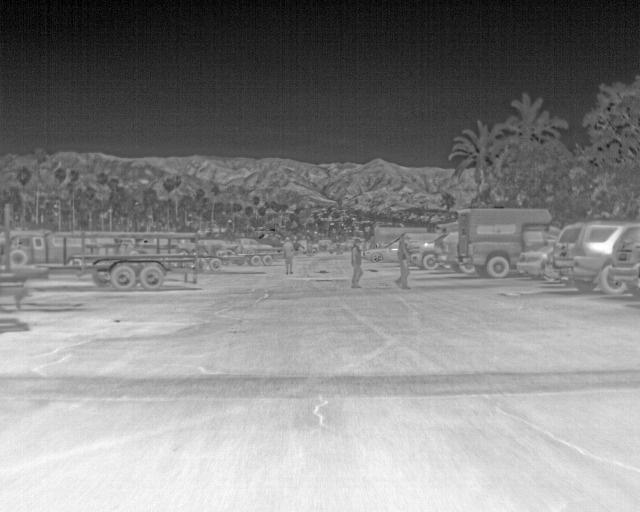bicycle: (548, 222, 638, 293), (607, 224, 639, 300), (514, 244, 552, 281), (412, 232, 447, 271), (362, 239, 398, 262), (234, 235, 274, 249)
empty: (390, 235, 412, 290), (348, 237, 363, 289), (281, 237, 296, 273)
